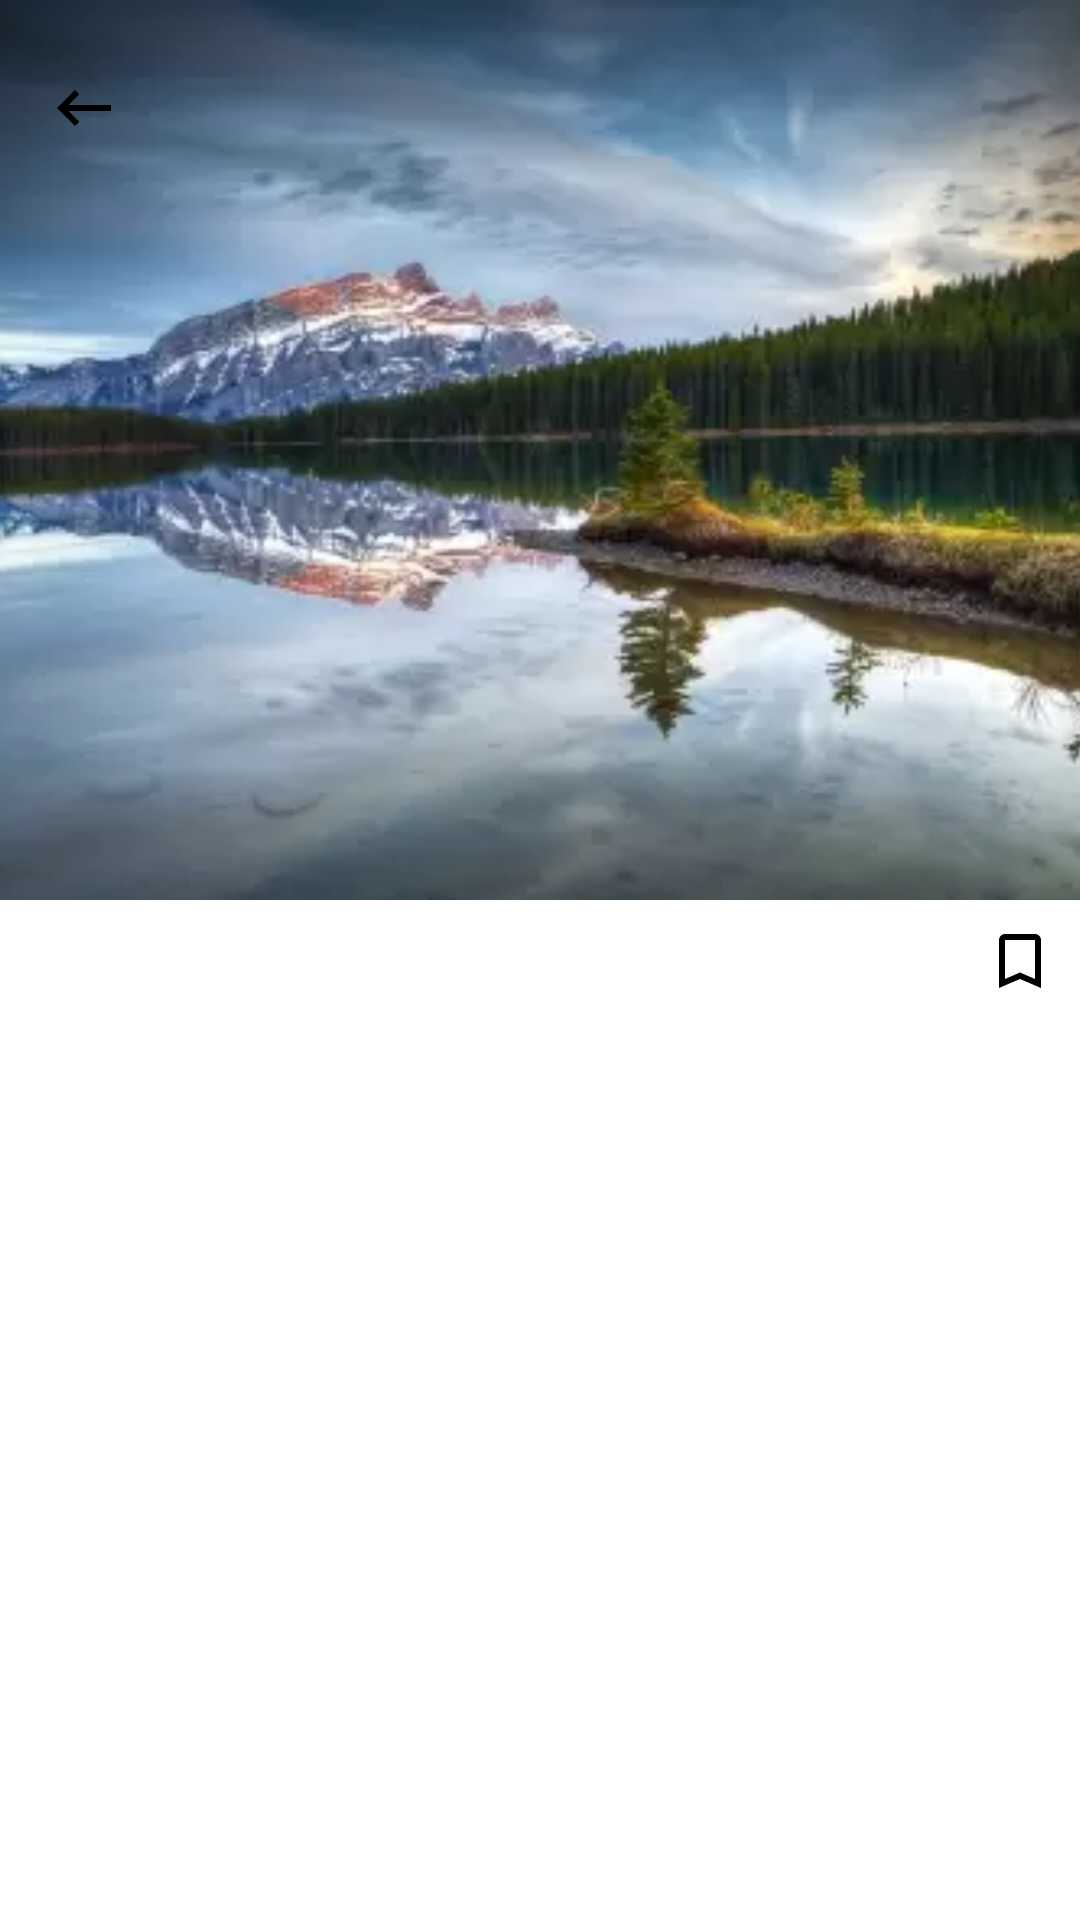

Icons on this 1080×1920 Android screen, each with the point to tap as point (x, y):
back: point (84, 108)
bookmark: point (1020, 961)
